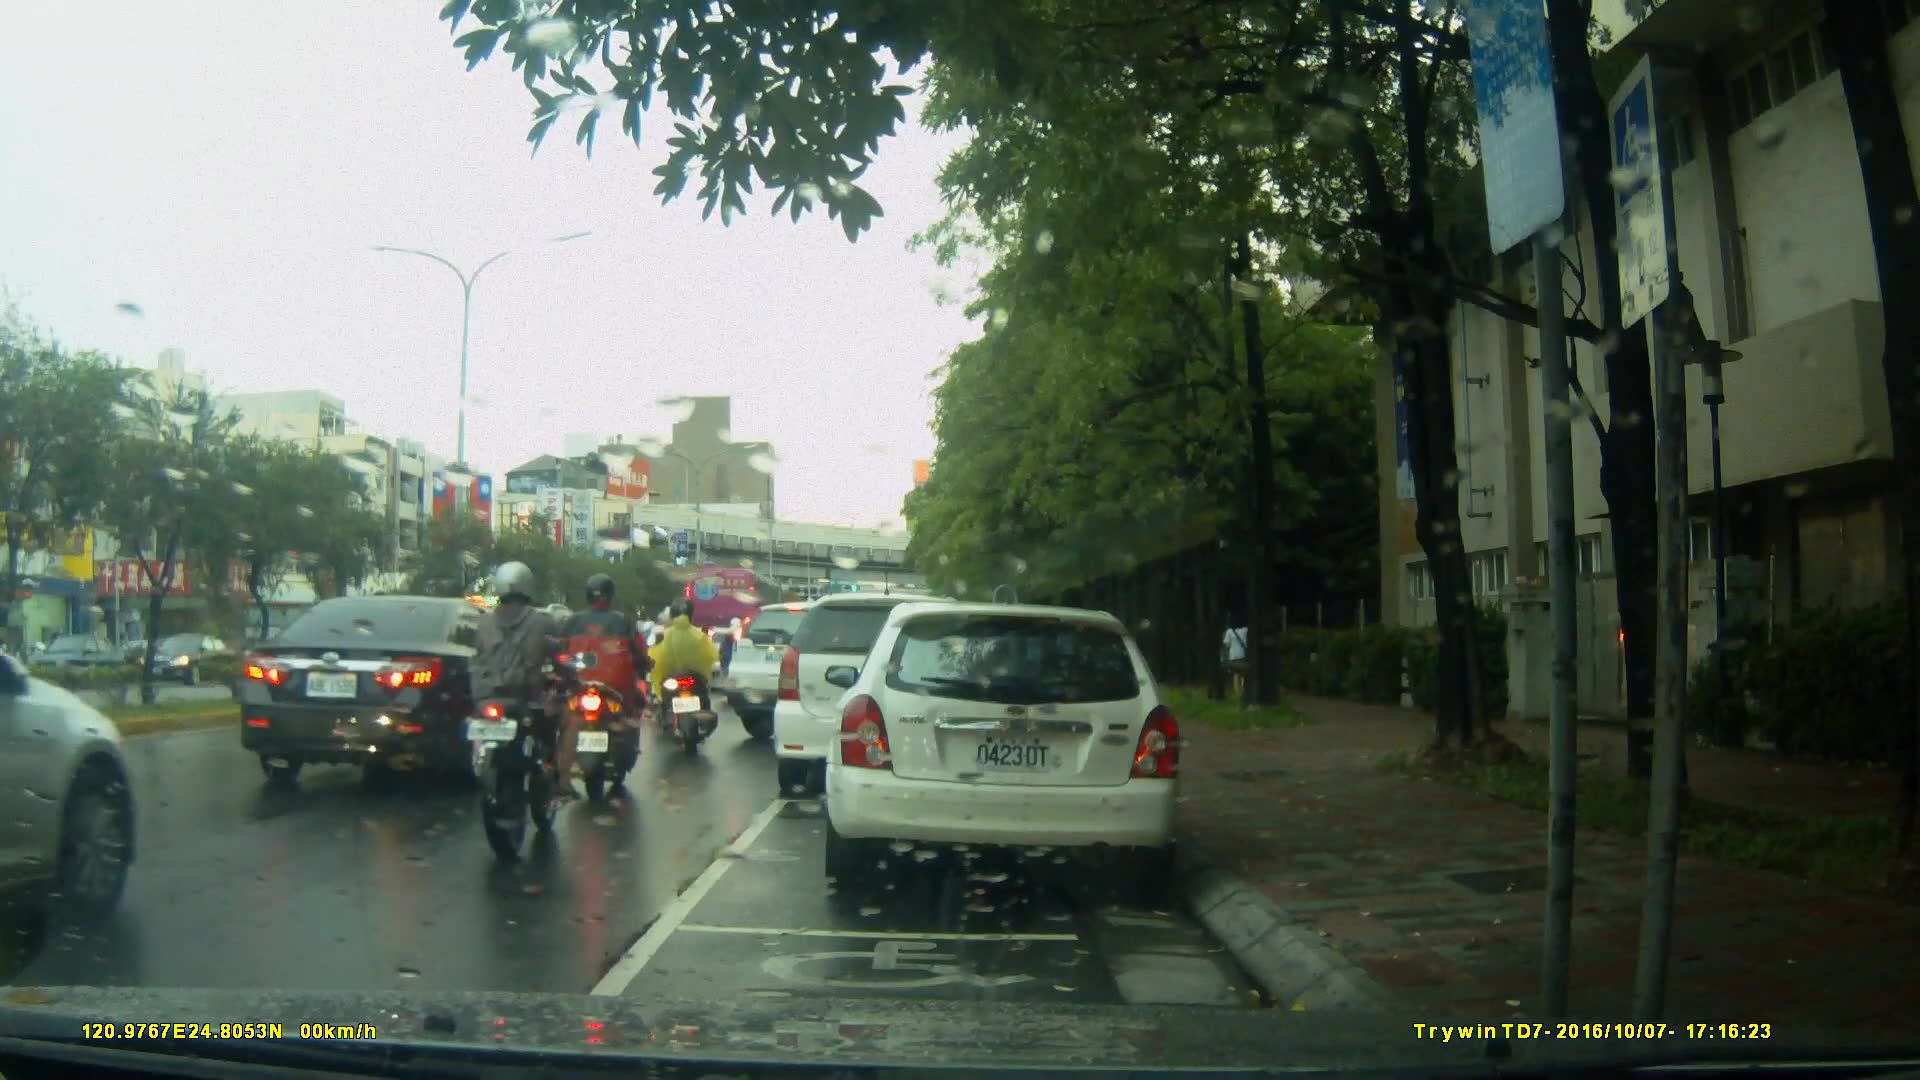rider: (454, 563, 586, 862), (555, 569, 661, 798), (644, 603, 720, 757), (662, 600, 711, 735)
vehicle: (835, 594, 1194, 898), (236, 593, 575, 795), (2, 553, 146, 947), (776, 590, 1026, 784), (727, 598, 953, 742), (681, 567, 784, 645), (22, 631, 130, 688), (130, 633, 245, 686)
